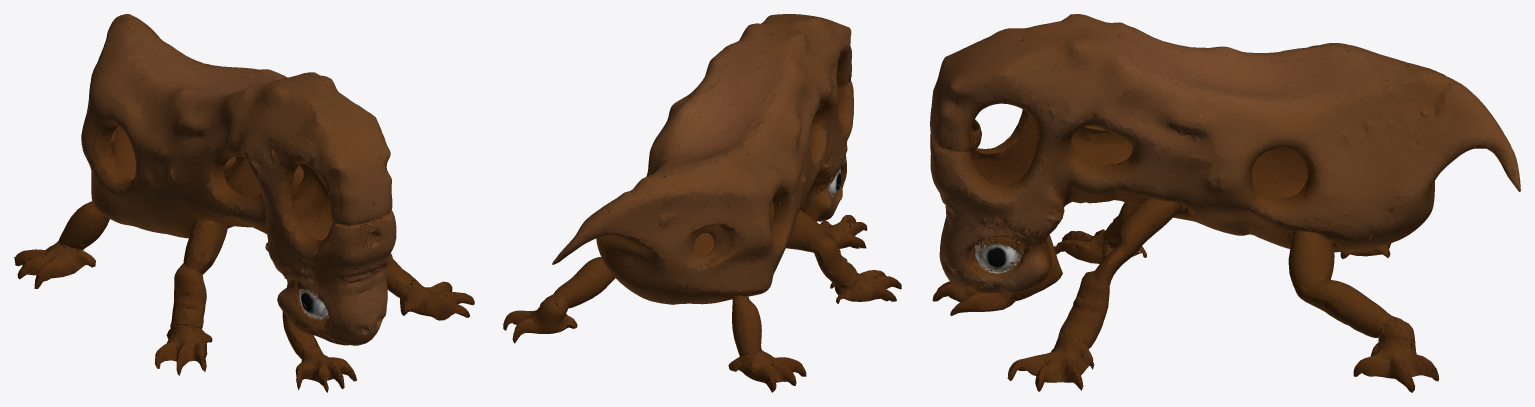
File: basin-10-s3p00-n00-silhouette-metabolizer-clay-normal-seed717032.glb
3 renders of one model, left to right at view 1: azimuth 30°, elevation 25°; view 2: azimuth 150°, elevation 25°; view 3: azimuth 270°, elevation 25°, orthographic. The views are drawn at different scales.
Parts seen in each view (by area): view 1: world; view 2: world; view 3: world.
Part boxes in pixels (left/top/right/bottom): world: left=14, top=14, right=474, bottom=392; world: left=503, top=14, right=901, bottom=392; world: left=930, top=14, right=1520, bottom=392.
Size of the model in its own units: 0.6782 by 0.5476 by 0.9995.
Materials: 1 (1 with a texture image).
